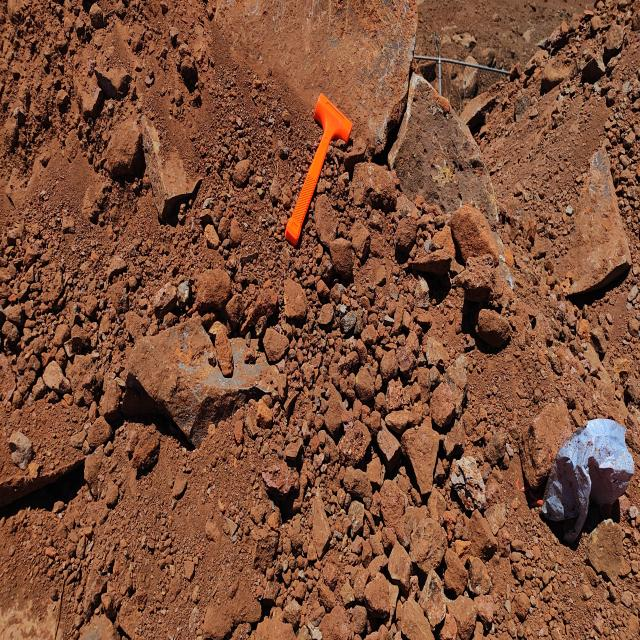Orange_hammer: (284, 91, 353, 248)
